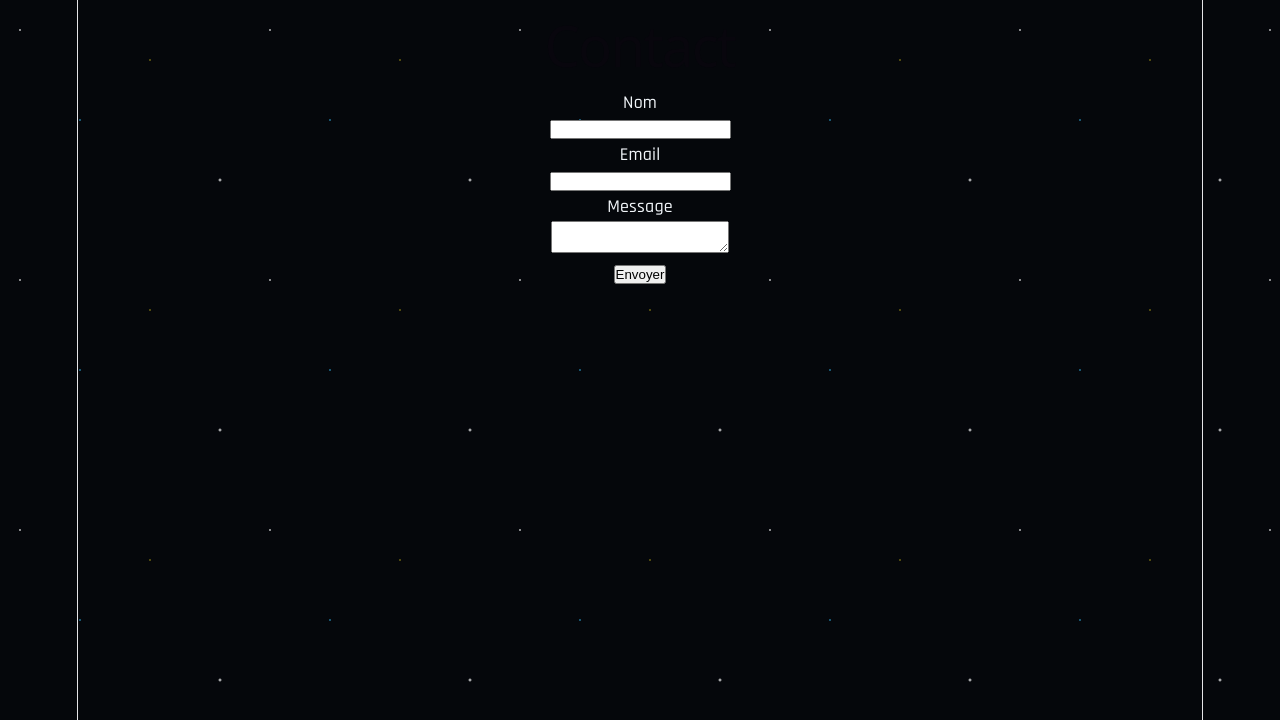
Test case: Contact › 7 - affiche le message de succès
Type "Nini" into the field labelled "Nom" at x=640, y=130, box [550, 120, 730, 139]
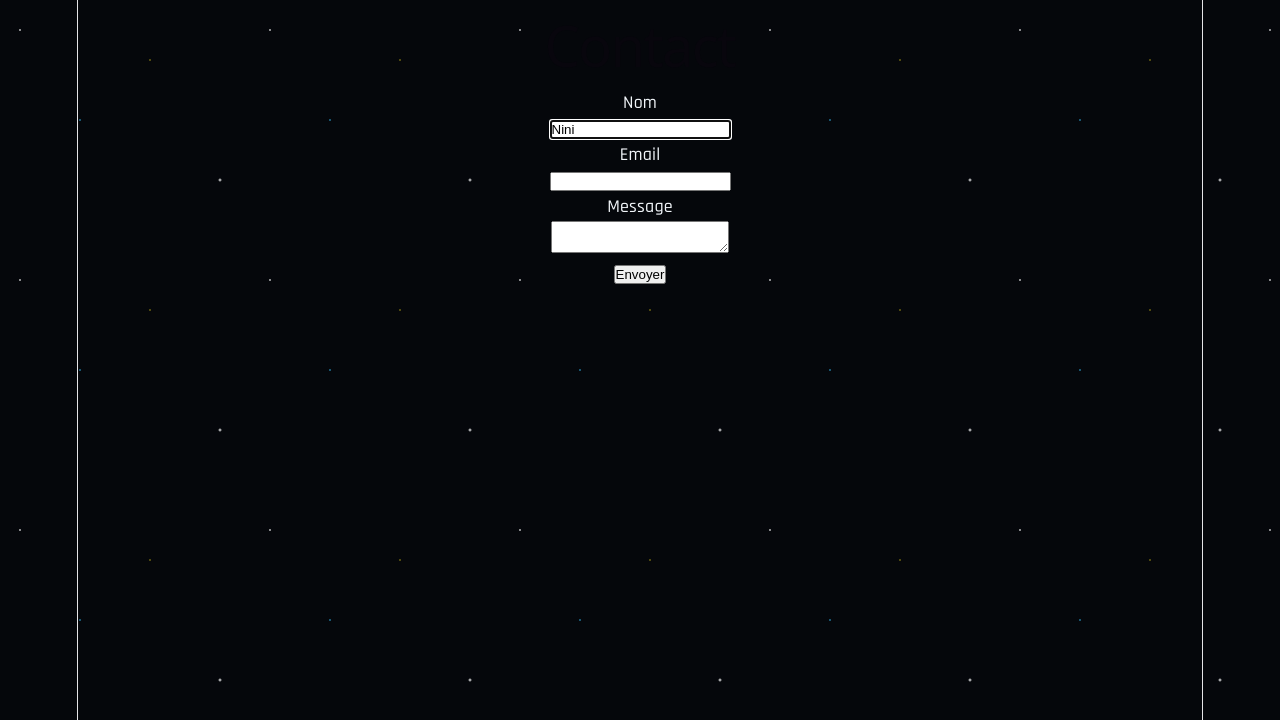
Type "test@test.fr" into the field labelled "Email" at x=640, y=182, box [550, 172, 730, 191]
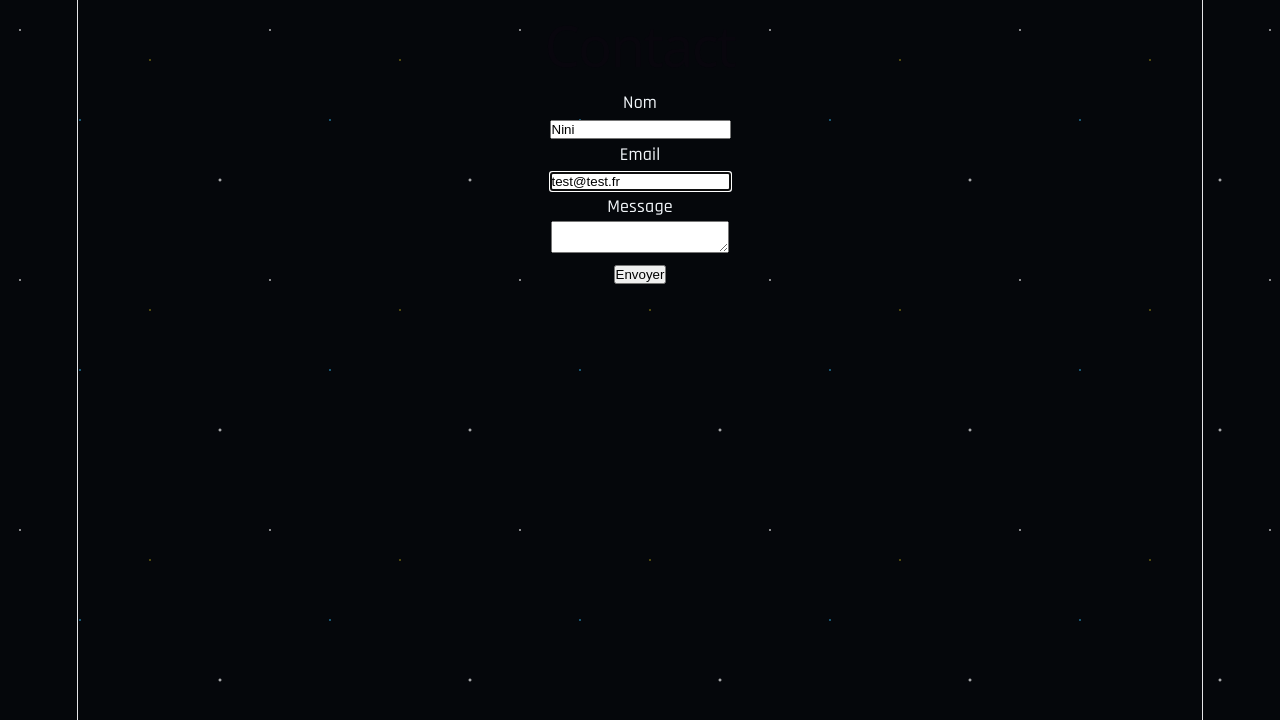
Type "Bonjour" into the text box labelled "Message" at x=640, y=237, box [551, 221, 729, 253]
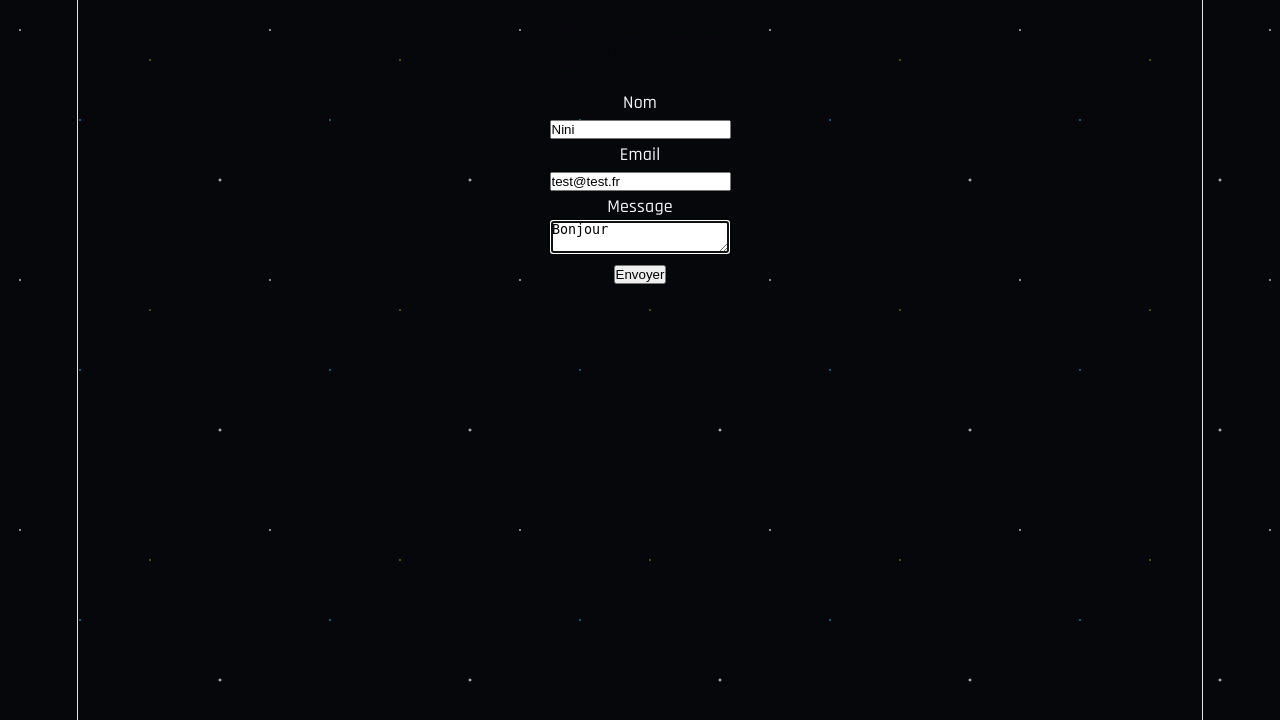
Click the button "Envoyer" at x=640, y=274, box [614, 265, 666, 284]
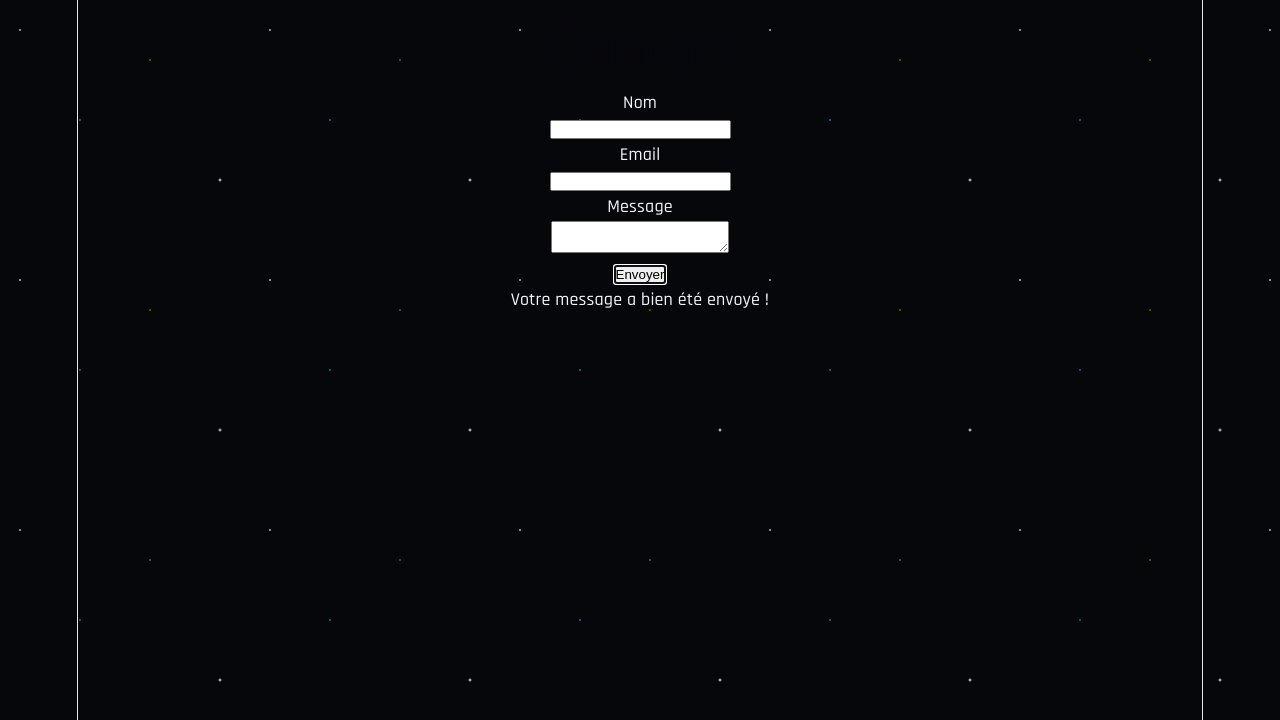
Expected: the text "Votre message a bien été envoyé !" is shown, [511, 288, 769, 311]
